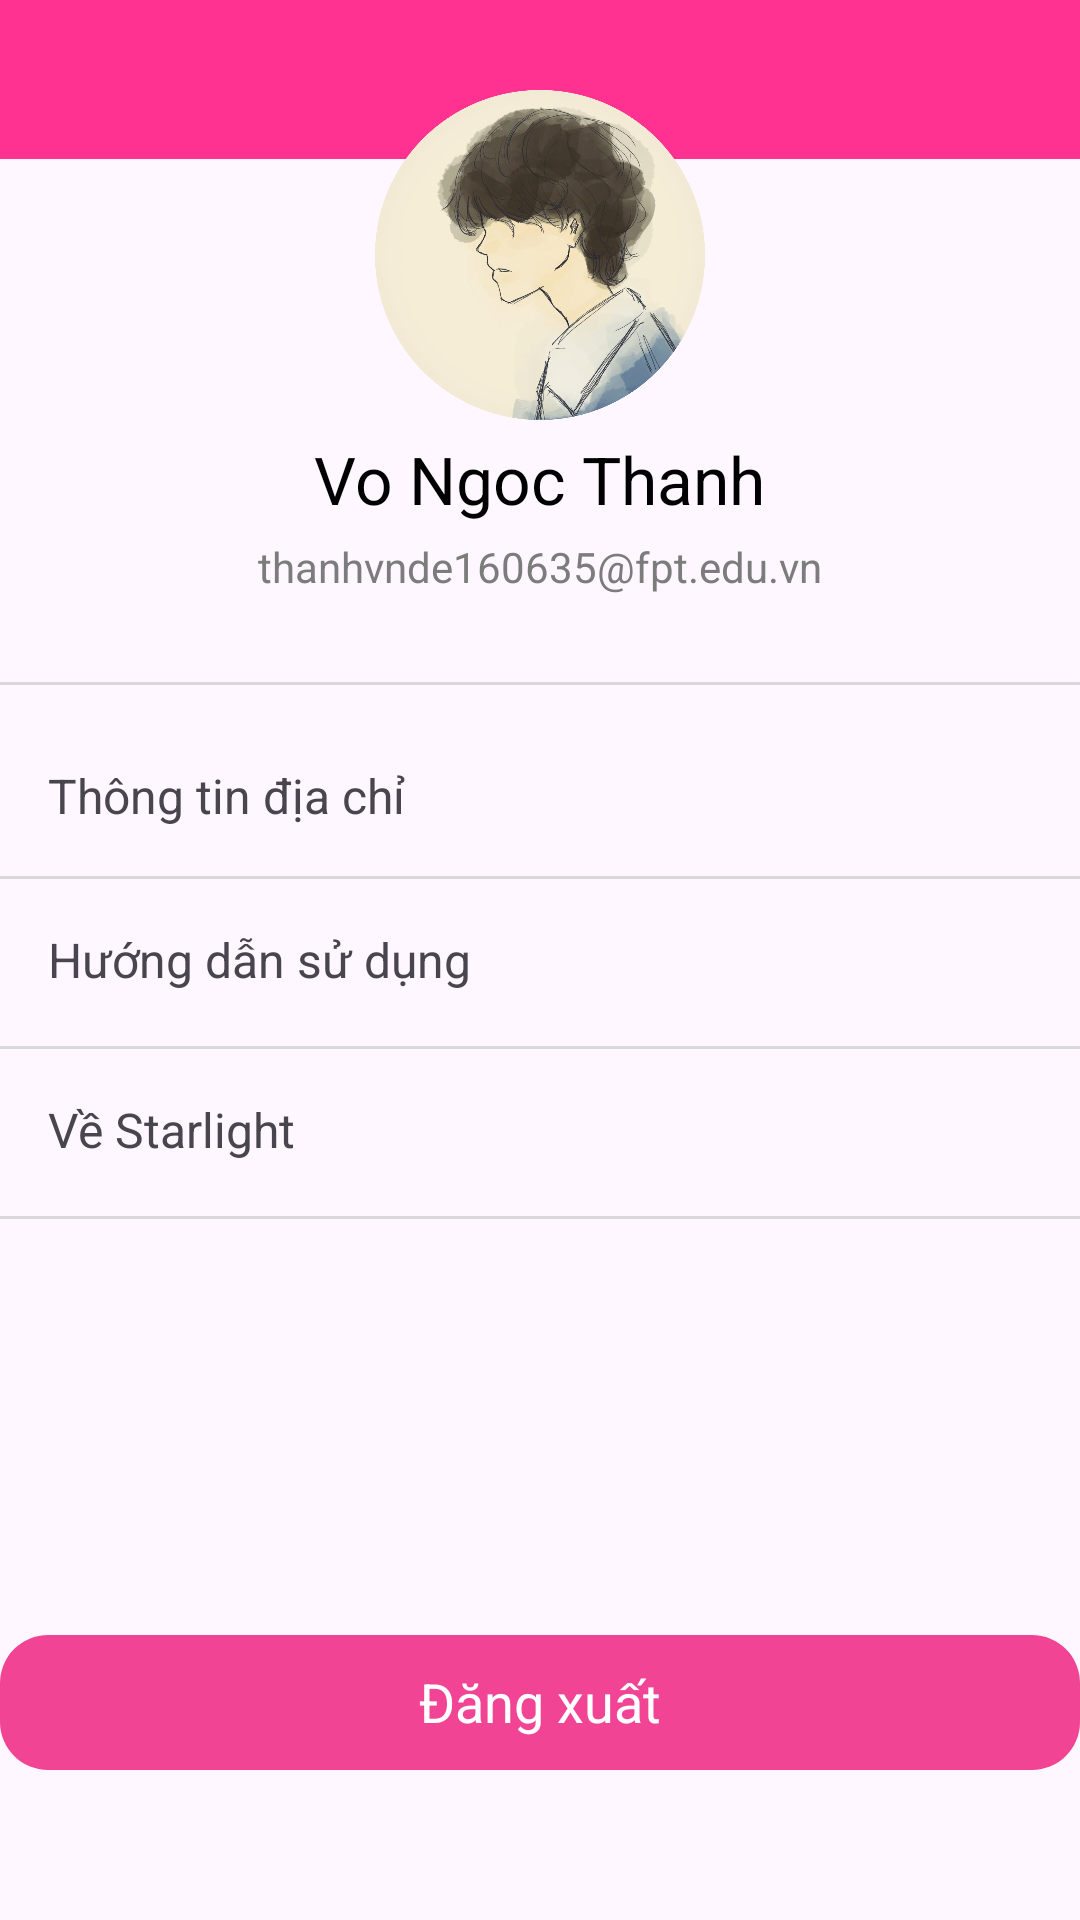

Icon bounding boxes for this 1080w x 1920h phone screenshot, format bbox=(x1, y1, x2, y2):
user: bbox=(375, 90, 705, 420)
